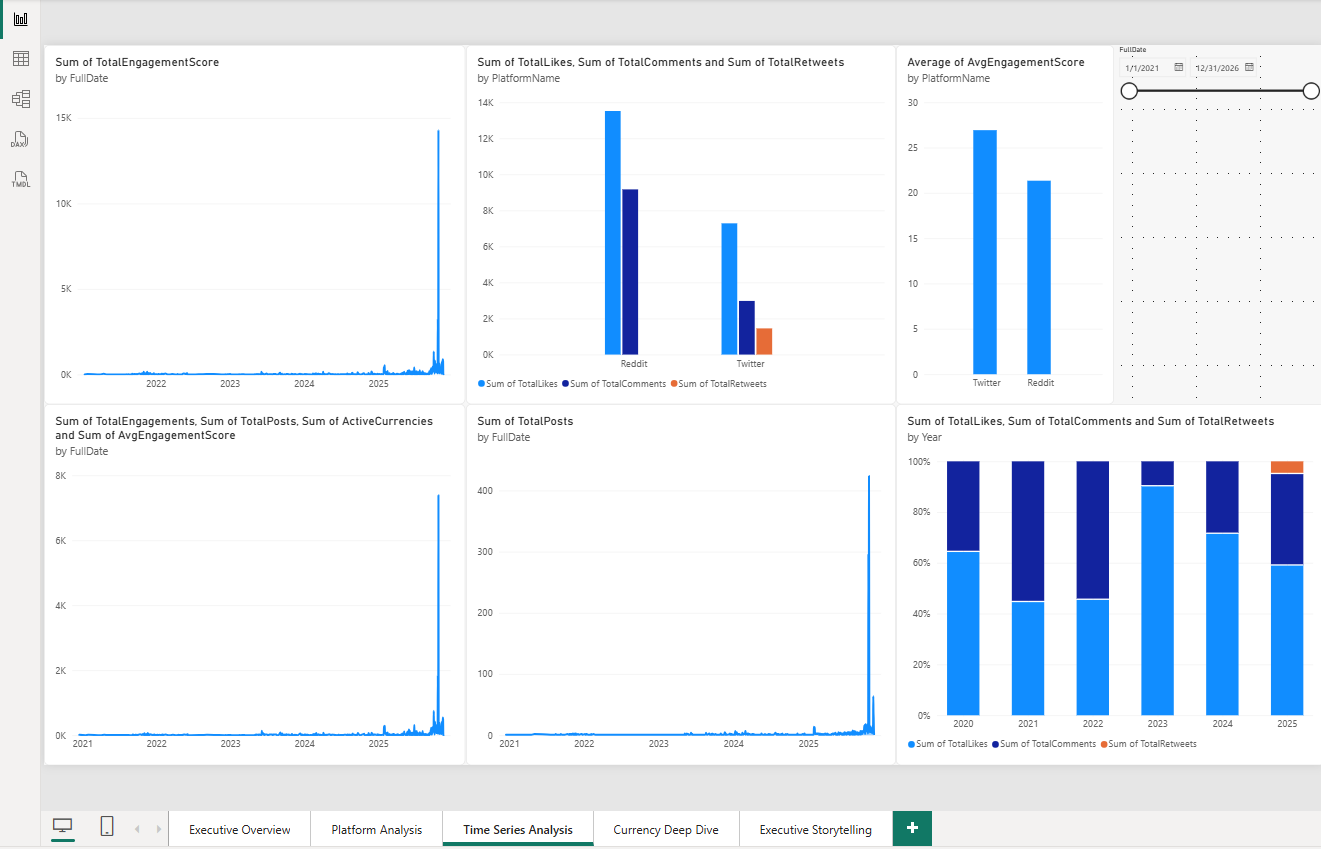

Layout of this report page (visuals, bound fields, positions):
{"tool":"powerbi","page":{"name":"Time Series Analysis","canvas":[1920,1080],"ordinal":2},"visuals":[{"type":"lineChart","fields":{"Category":["dimdate.FullDate"],"Y":["Sum(vw_platformdaily.TotalEngagementScore)"]},"box":[0,0,632.3,539.4],"z":0},{"type":"clusteredColumnChart","fields":{"Category":["vw_socialanalytics.PlatformName"],"Y":["Sum(vw_socialanalytics.TotalLikes)","Sum(vw_socialanalytics.TotalComments)","Sum(vw_socialanalytics.TotalRetweets)"]},"box":[632.5,0,645.2,539.4],"z":1000},{"type":"clusteredColumnChart","fields":{"Category":["vw_socialanalytics.PlatformName"],"Y":["Avg(vw_socialanalytics.AvgEngagementScore)"]},"box":[1277.8,0,327.4,538.8],"z":2000},{"type":"lineChart","fields":{"Category":["vw_timeseries.FullDate"],"Y":["Sum(vw_timeseries.TotalEngagements)"]},"box":[0,538.1,632.3,541.9],"z":4000},{"type":"areaChart","fields":{"Category":["vw_timeseries.FullDate"],"Y":["Sum(vw_timeseries.TotalPosts)"]},"box":[632.3,538.1,645.2,541.9],"z":5000},{"type":"hundredPercentStackedColumnChart","fields":{"Category":["vw_timeseries.FullDate.Variation.Date Hierarchy.Year","vw_timeseries.FullDate.Variation.Date Hierarchy.Quarter","vw_timeseries.FullDate.Variation.Date Hierarchy.Month","vw_timeseries.FullDate.Variation.Date Hierarchy.Day"],"Y":["Sum(vw_timeseries.TotalLikes)","Sum(vw_timeseries.TotalComments)","Sum(vw_timeseries.TotalRetweets)"]},"box":[1277.4,538.1,642.6,541.9],"z":6000},{"type":"slicer","fields":{"Values":["dimdate.FullDate"]},"box":[1605.4,0,312.6,90.1],"z":7000}]}

Visuals, with their boxes on the page's 1920x1080 design canvas (x1, y1, x2, y2). These are canvas units, not pixel positions in the 1321x849 screenshot, which may show the page scaled, cropped or inside an application window:
lineChart - dimdate.FullDate x Sum(vw_platformdaily.TotalEngagementScore): bbox=(0, 0, 632, 539)
clusteredColumnChart - vw_socialanalytics.PlatformName x Sum(vw_socialanalytics.TotalLikes): bbox=(632, 0, 1278, 539)
clusteredColumnChart - vw_socialanalytics.PlatformName x Avg(vw_socialanalytics.AvgEngagementScore): bbox=(1278, 0, 1605, 539)
lineChart - vw_timeseries.FullDate x Sum(vw_timeseries.TotalEngagements): bbox=(0, 538, 632, 1080)
areaChart - vw_timeseries.FullDate x Sum(vw_timeseries.TotalPosts): bbox=(632, 538, 1278, 1080)
hundredPercentStackedColumnChart - vw_timeseries.FullDate.Variation.Date Hierarchy.Year x vw_timeseries.FullDate.Variation.Date Hierarchy.Quarter: bbox=(1277, 538, 1920, 1080)
slicer - dimdate.FullDate: bbox=(1605, 0, 1918, 90)
